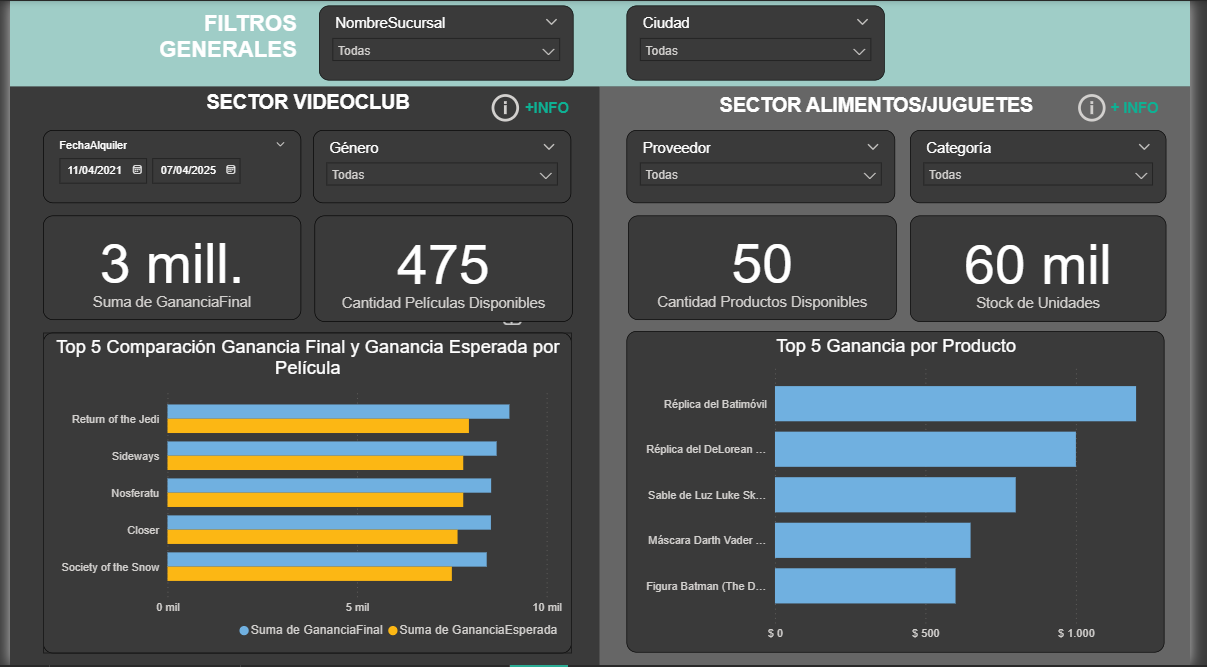

The dashboard page shown, as its layout file describes it:
{"tool":"powerbi","page":{"name":"Home","canvas":[1280,720],"ordinal":0},"visuals":[{"type":"shape","box":[638.7,92.6,642.5,627.4],"z":0},{"type":"textbox","box":[175.6,92.8,294.9,46.4],"z":1000},{"type":"shape","box":[0,0,1281.3,92.6],"z":2000},{"type":"slicer","fields":{"Values":["Sucursales.NombreSucursal"]},"box":[334.5,5.7,275.9,81.3],"z":3000},{"type":"slicer","fields":{"Values":["Ciudad.Ciudad"]},"box":[669,5.7,279.7,81.3],"z":4000},{"type":"clusteredBarChart","title":"Top 5 Comparación Ganancia Final y Ganancia Esperada por Película","fields":{"Y":["Sum(PeliculasAlquiladas.GananciaFinal)","Sum(PeliculasAlquiladas.GananciaEsperada)"],"Category":["Peliculas.Título Original"]},"box":[36.4,359.5,573.1,347.9],"z":5000},{"type":"card","fields":{"Values":["Sum(PeliculasAlquiladas.GananciaFinal)"]},"box":[35.9,232.4,279.7,113.4],"z":6000},{"type":"card","fields":{"Values":["Count(VentasAlimentosJuguetes.ProductoID)"]},"box":[670.9,232.4,291,113.4],"z":7000},{"type":"card","fields":{"Values":["Count(Peliculas.PeliculaID)"]},"box":[330.7,232.4,279.7,115.3],"z":8000},{"type":"card","fields":{"Values":["Sum(VentasAlimentosJuguetes.Unidades)"]},"box":[975.1,232.4,277.8,115.3],"z":9000},{"type":"barChart","title":"Top 5 Ganancia por Producto","fields":{"Y":["Productos.Ganancia M"],"Category":["Productos.Producto"]},"box":[669.2,358.5,583.6,348.6],"z":10000},{"type":"textbox","box":[764,96,396,66],"z":11000},{"type":"slicer","fields":{"Values":["GéneroPeliculas.Género"]},"box":[328.8,139.8,279.7,79.4],"z":12000},{"type":"slicer","fields":{"Values":["PeliculasAlquiladas.FechaAlquiler"]},"box":[35.9,139.8,279.7,79.4],"z":13000},{"type":"textbox","box":[124.7,5.7,190.9,75.6],"z":14000},{"type":"slicer","fields":{"Values":["Productos.Categoría"]},"box":[975.1,139.8,277.8,79.4],"z":15000},{"type":"slicer","fields":{"Values":["Proveedores.Proveedor"]},"box":[669,139.8,291,79.4],"z":16000},{"type":"actionButton","box":[516.8,96.1,92.8,39.8],"z":17000},{"type":"actionButton","box":[1152.9,96.1,96.1,39.8],"z":18000}]}

Visuals, with their boxes in screenshot pixels (x1, y1, x2, y2), scaled from the page's 1280x720 canvas onto the 1207x667 screenshot:
shape: bbox=(602, 86, 1206, 666)
textbox: bbox=(166, 86, 444, 129)
shape: bbox=(0, 0, 1206, 86)
slicer - Sucursales.NombreSucursal: bbox=(315, 5, 576, 81)
slicer - Ciudad.Ciudad: bbox=(631, 5, 895, 81)
"Top 5 Comparación Ganancia Final y Ganancia Esperada por Película" clusteredBarChart: bbox=(34, 333, 575, 655)
card - Sum(PeliculasAlquiladas.GananciaFinal): bbox=(34, 215, 298, 320)
card - Count(VentasAlimentosJuguetes.ProductoID): bbox=(633, 215, 907, 320)
card - Count(Peliculas.PeliculaID): bbox=(312, 215, 576, 322)
card - Sum(VentasAlimentosJuguetes.Unidades): bbox=(919, 215, 1181, 322)
"Top 5 Ganancia por Producto" barChart: bbox=(631, 332, 1181, 655)
textbox: bbox=(720, 89, 1094, 150)
slicer - GéneroPeliculas.Género: bbox=(310, 130, 574, 203)
slicer - PeliculasAlquiladas.FechaAlquiler: bbox=(34, 130, 298, 203)
textbox: bbox=(118, 5, 298, 75)
slicer - Productos.Categoría: bbox=(919, 130, 1181, 203)
slicer - Proveedores.Proveedor: bbox=(631, 130, 905, 203)
actionButton: bbox=(487, 89, 575, 126)
actionButton: bbox=(1087, 89, 1178, 126)
